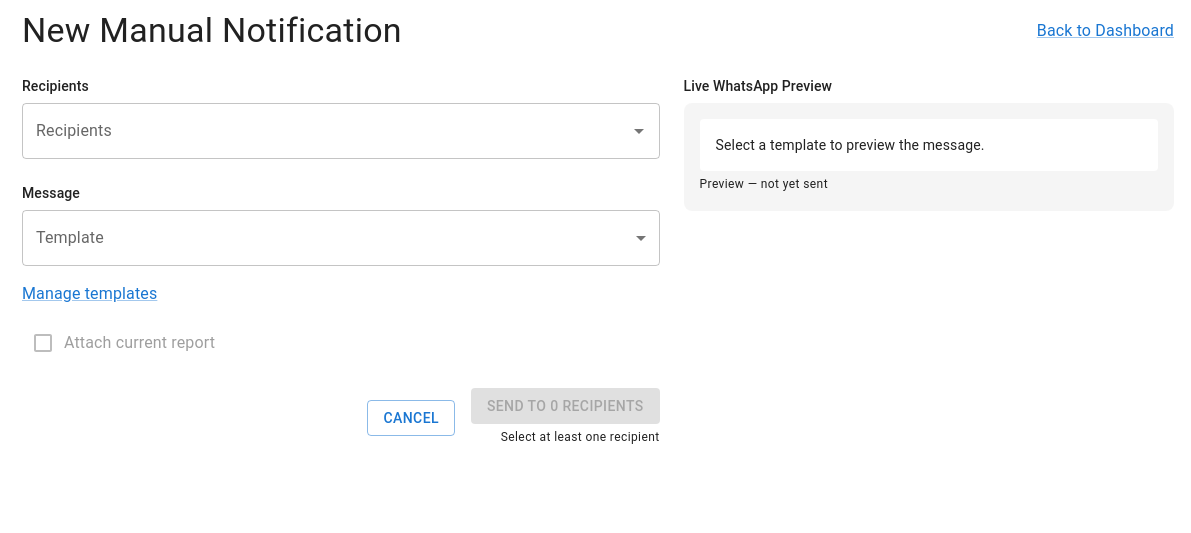
Test: NotificationComposePage › updates the live WhatsApp preview as variable fields are typed into
Click the dropdown named "Template".
click(341, 238)  # box [22,210,660,266]
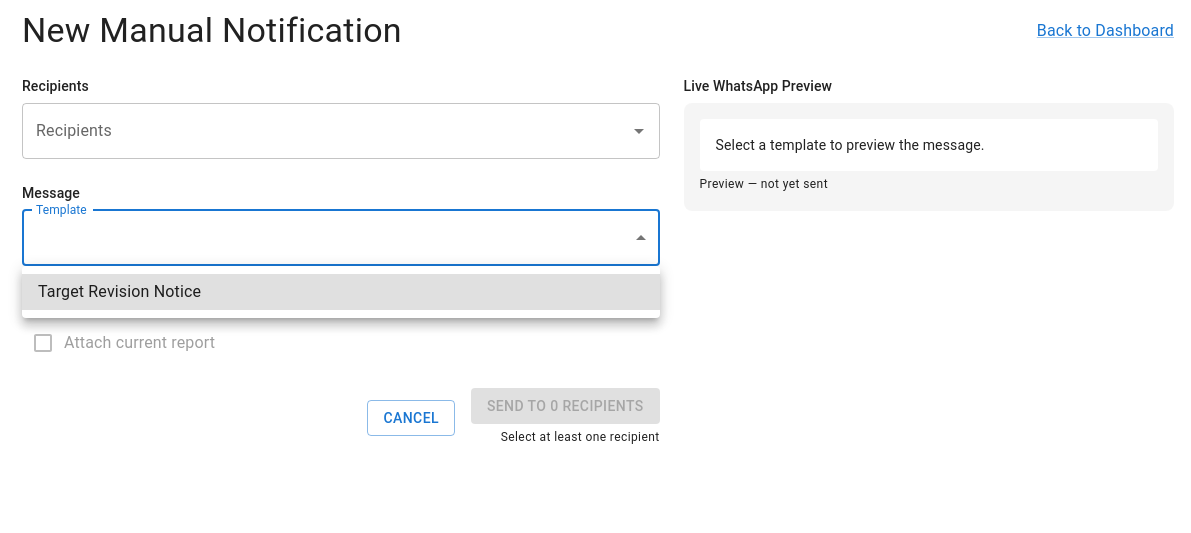
Click the option "Target Revision Notice".
click(120, 292)  # box [22,274,660,310]
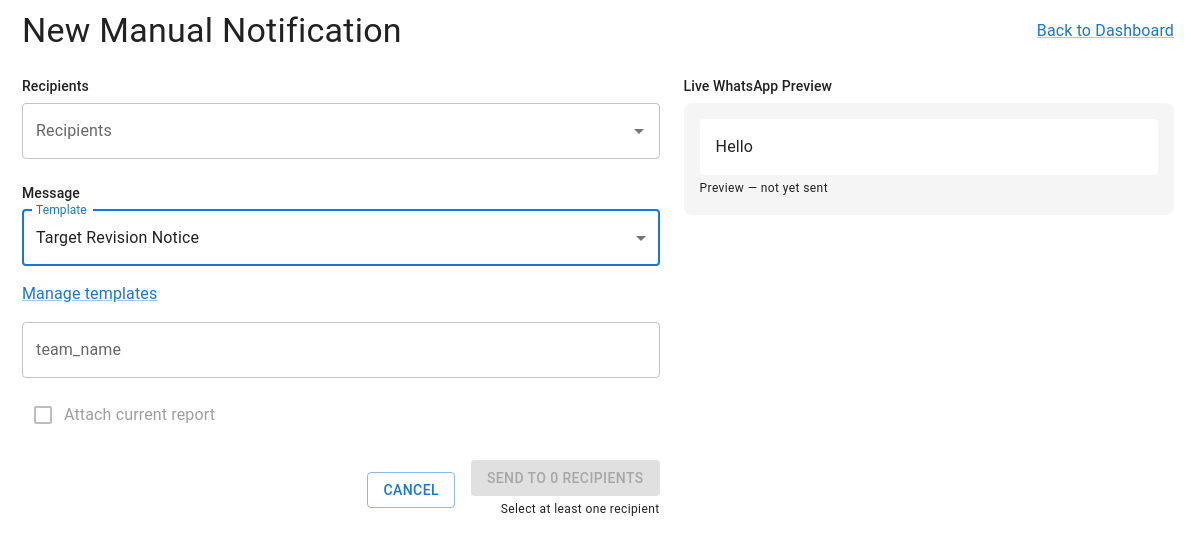
Type "Team B" into the field labelled "team_name".
click(341, 350); type("Team B")  # box [22,322,660,378]
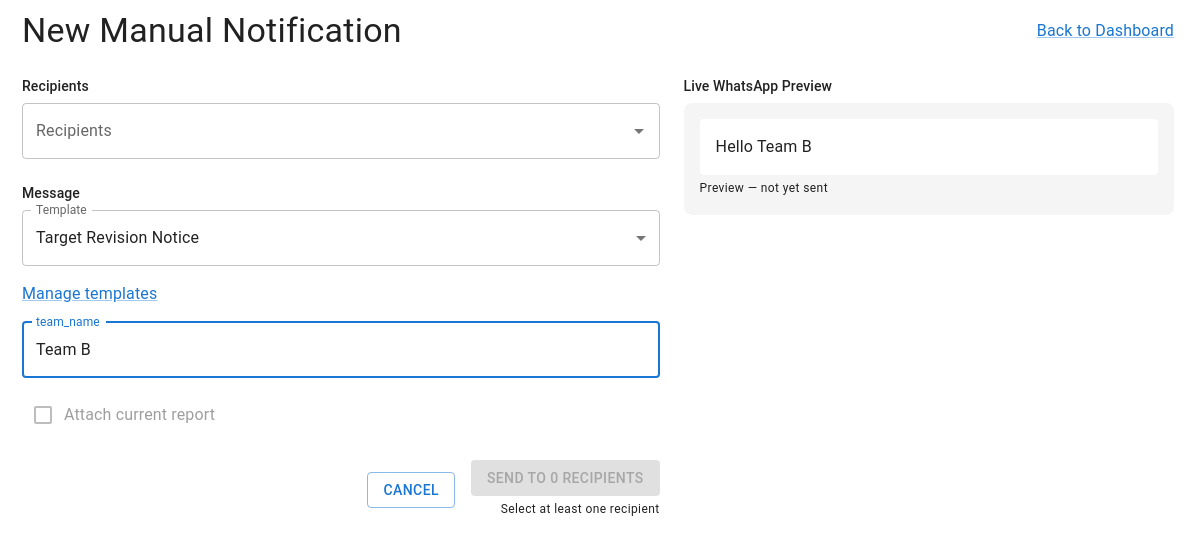
Expected: the text "Hello Team B" is shown, [700,119,1158,175]
